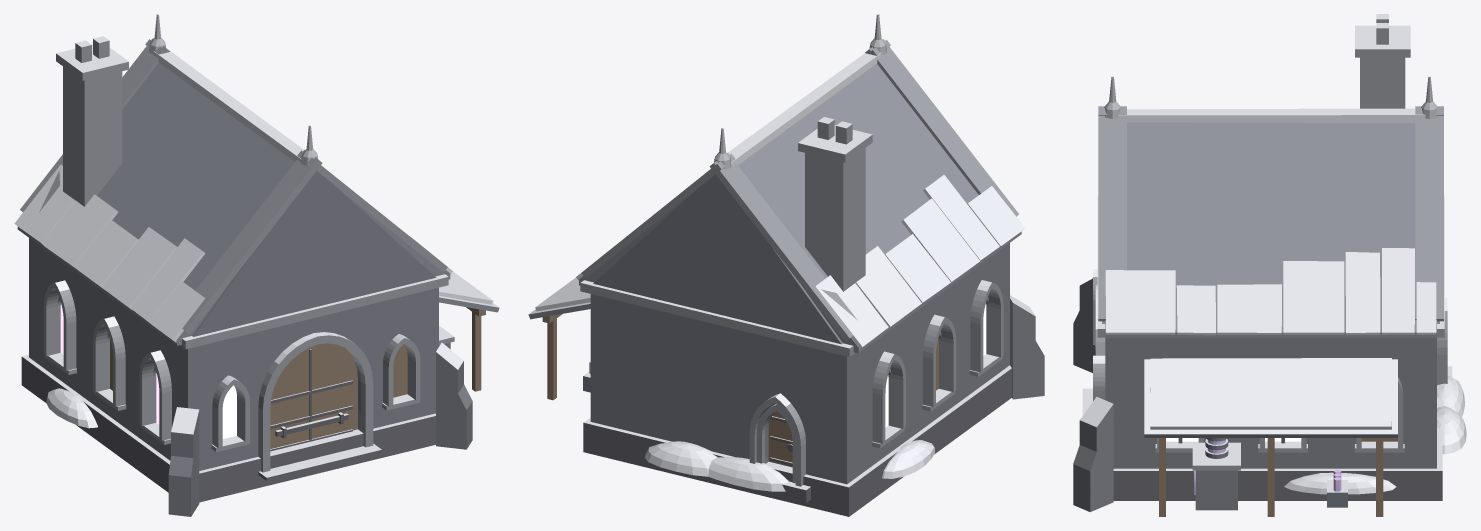
Rendered from AR_Oficina_Cristal.fbx.
The picture shows the model from 3 angles, left to right: view 1: azimuth 30°, elevation 25°; view 2: azimuth 150°, elevation 25°; view 3: azimuth 270°, elevation 25°; orthographic projection. The views are drawn at different scales.
Parts seen in each view (by area): view 1: AR_Oficina_Cristal; view 2: AR_Oficina_Cristal; view 3: AR_Oficina_Cristal.
Boxes of the visible parts, x1,y1,x2,y2 form: AR_Oficina_Cristal: (14, 14, 499, 516); AR_Oficina_Cristal: (528, 14, 1044, 516); AR_Oficina_Cristal: (1073, 14, 1466, 516).
Size of the model in its own units: 14.23 by 13.5 by 13.05.
